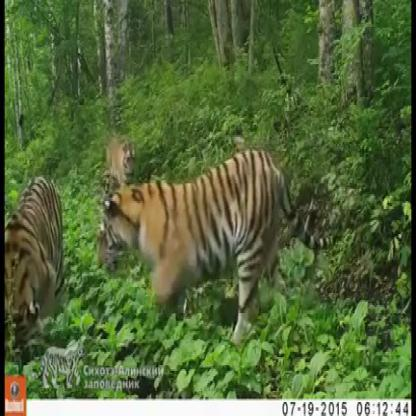Tiger: (98, 150, 311, 352), (0, 148, 76, 343), (100, 126, 139, 188)
